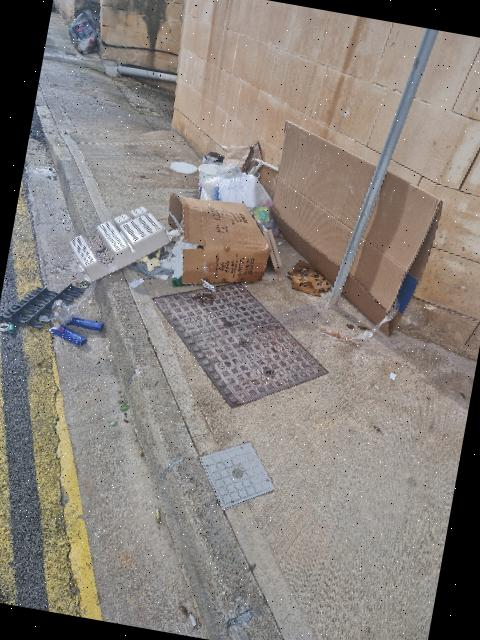Other: (273, 121, 375, 282), (341, 171, 442, 323), (140, 192, 270, 284), (70, 207, 171, 281), (0, 283, 103, 346), (198, 141, 261, 186), (286, 260, 330, 296), (169, 161, 196, 173)
Recyclable -Grey-: (199, 164, 278, 235), (68, 9, 98, 54)
